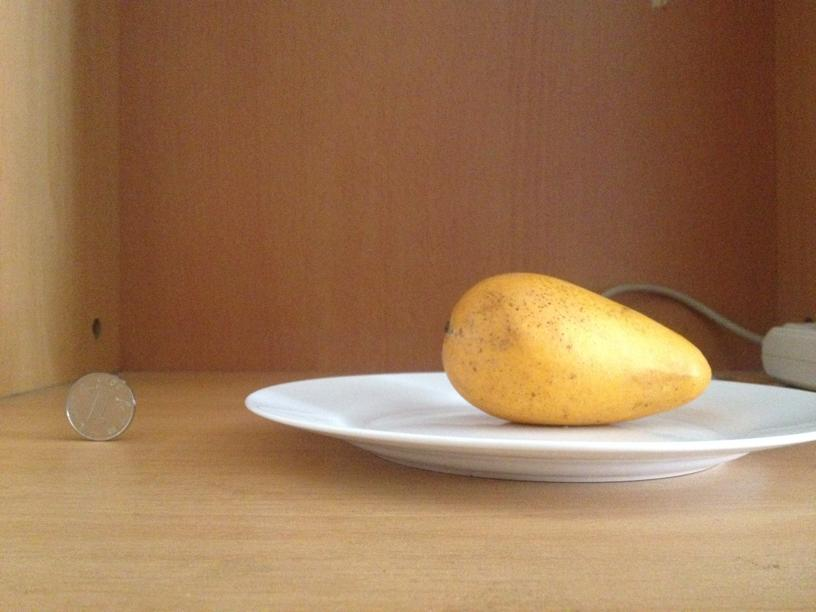coin: (61, 369, 134, 441)
mango: (444, 274, 710, 424)
